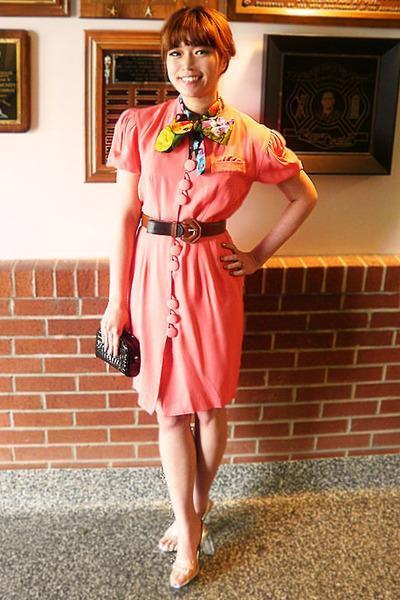bag: (95, 324, 140, 376)
dress: (106, 97, 304, 426)
